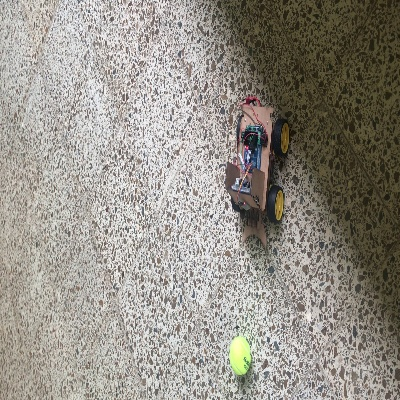Ball: (229, 338, 251, 375)
Robot: (225, 99, 290, 247)
